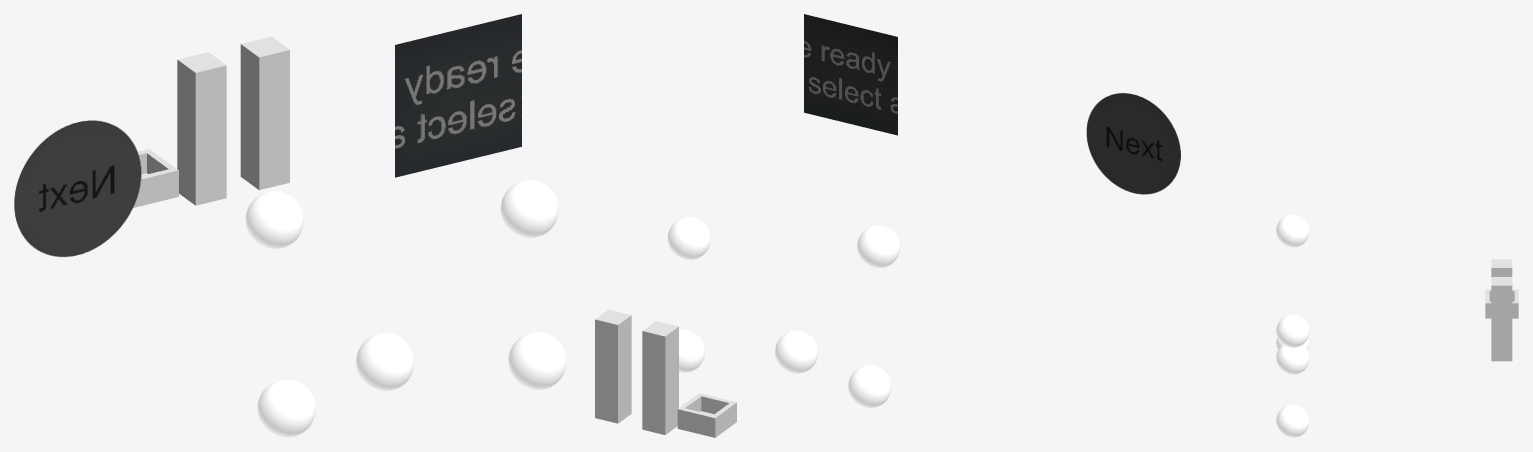
3 renders of one model, left to right at view 1: azimuth 30°, elevation 25°; view 2: azimuth 150°, elevation 25°; view 3: azimuth 270°, elevation 25°, orthographic. The views are drawn at different scales.
Parts seen in each view (by area): view 1: Instructions, Sphere (×5), Next Button, Table Start, Table, Cube (1), Cube (4); view 2: Instructions, Next Button, Sphere (×5), Table Start, Table, Cube (2); view 3: Sphere (×4), Table Start, Table.
Part boxes in pixels (x1,y1,x2,y2): Instructions: [395, 14, 521, 177]; Sphere (×5): [245, 180, 566, 437]; Next Button: [14, 120, 141, 256]; Table Start: [240, 36, 289, 190]; Table: [177, 52, 226, 205]; Cube (1): [136, 168, 178, 200]; Cube (4): [145, 150, 178, 197]; Instructions: [804, 14, 897, 135]; Next Button: [1086, 93, 1180, 194]; Sphere (×5): [667, 217, 900, 408]; Table Start: [595, 309, 631, 423]; Table: [642, 321, 678, 434]; Cube (2): [677, 407, 717, 437]; Sphere (×4): [1276, 214, 1309, 437]; Table Start: [1491, 277, 1512, 361]; Table: [1491, 259, 1512, 276].
Size of the model in its own units: 4.9 by 3.38 by 3.7.
Materials: 13 (11 with a texture image).
